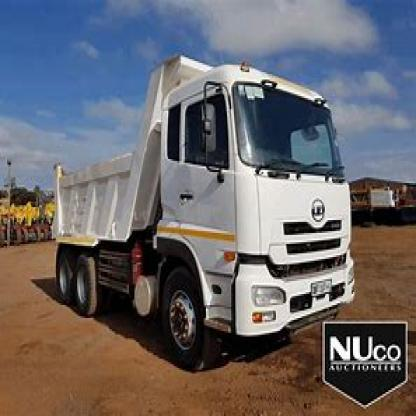dump_truck: (43, 44, 356, 366)
